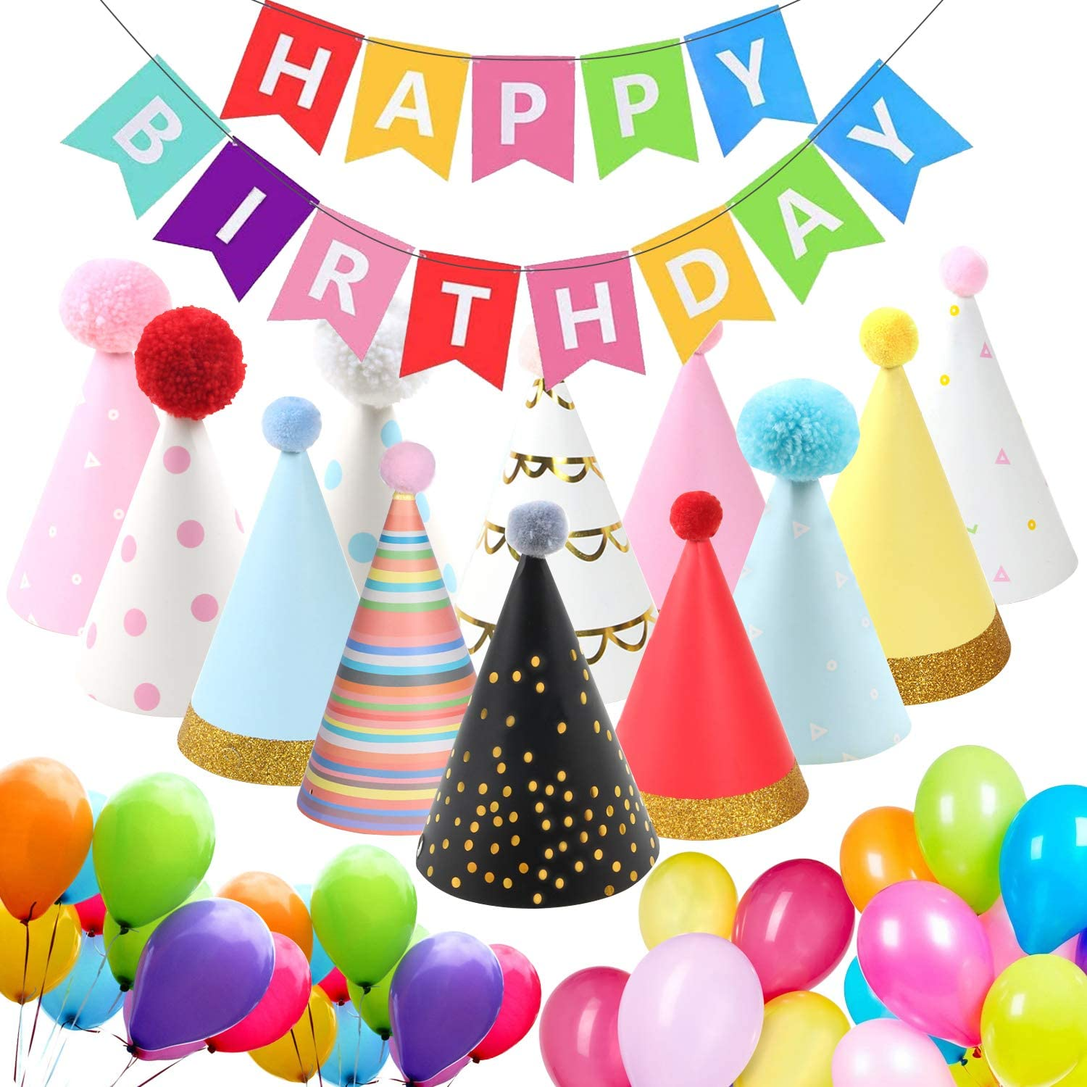cone: (416, 554, 659, 909), (296, 491, 478, 836), (827, 366, 1011, 705), (177, 449, 360, 787), (615, 539, 809, 841), (75, 412, 249, 718), (733, 476, 912, 765), (916, 295, 1078, 605), (7, 349, 160, 637)
